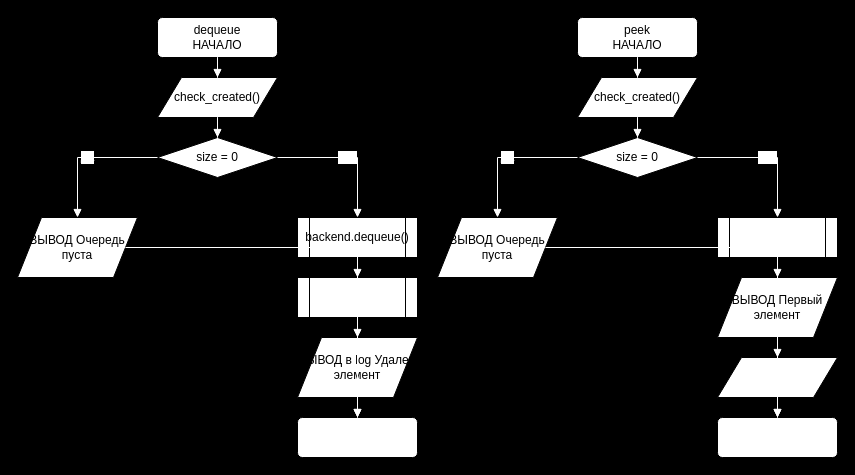
The diagram is 855 pixels wide and 475 high, and some of its shapes have lost their labels. The centre of each missing label's shape, as x and y in pixels:
backend.peek(): [777,237]
refresh(): [357,297]
ВЫВОД в log Peek: [777,377]
КОНЕЦ dequeue: [357,437]
КОНЕЦ peek: [777,437]
